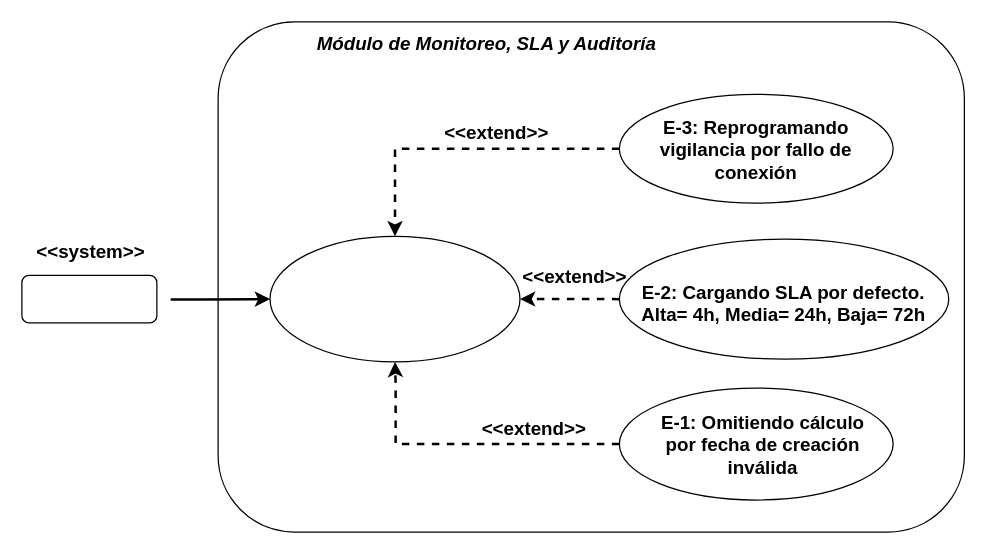
Image size: 986x555. Some labels were removed from this diagram. The box of each missing label's shape, as (x1, y1, x2, y2) in pixels:
CU-20: Vigilando activamente los tiempos: (269, 235, 520, 362)
SISTEMA: (21, 274, 157, 323)
